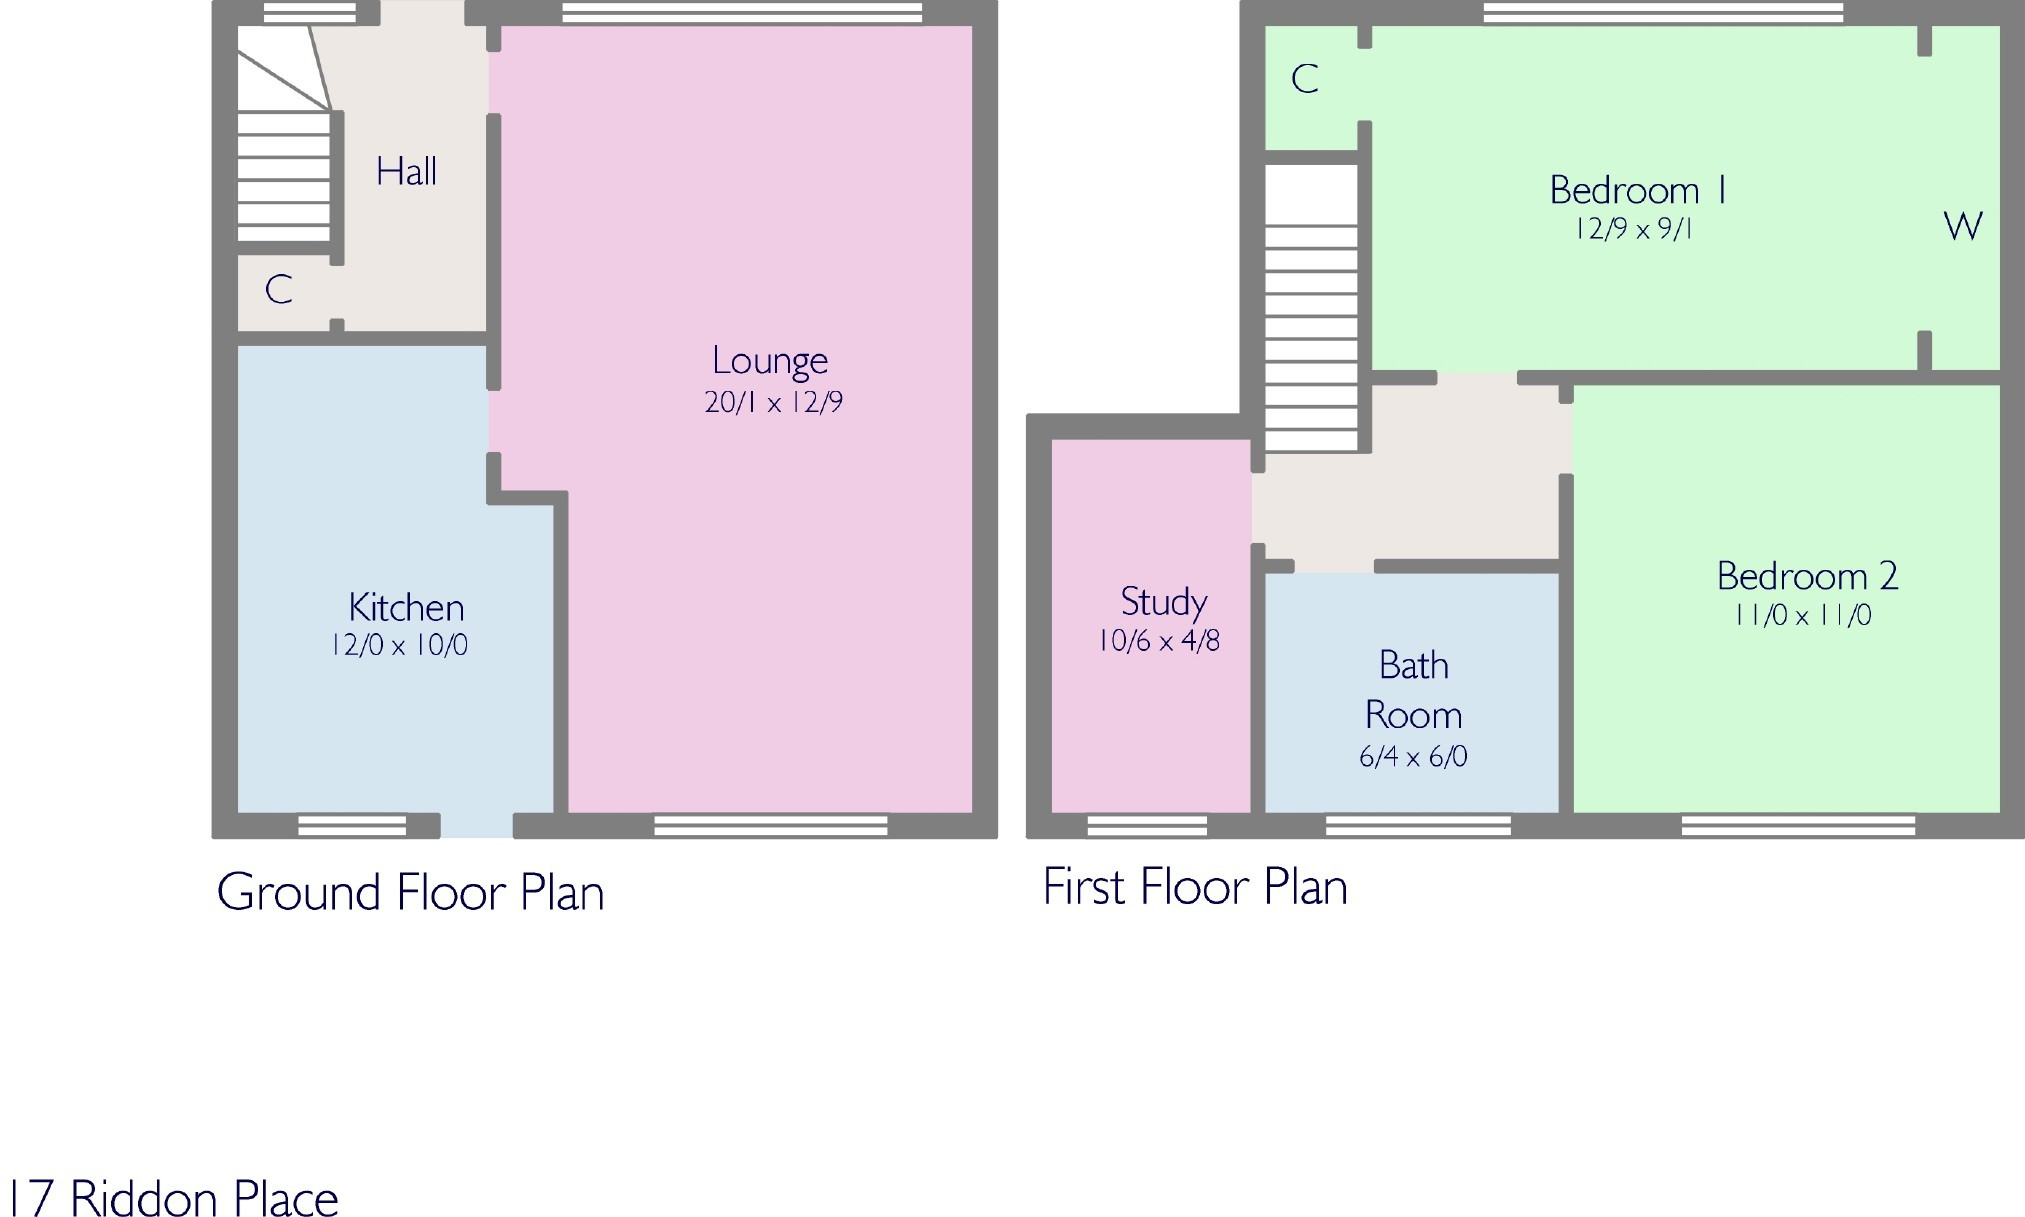window: (553, 1, 931, 29), (1672, 807, 1922, 844), (645, 807, 895, 842), (1475, 1, 1849, 25), (1321, 807, 1517, 844), (289, 805, 417, 847), (1080, 810, 1214, 839), (255, 1, 364, 30)
